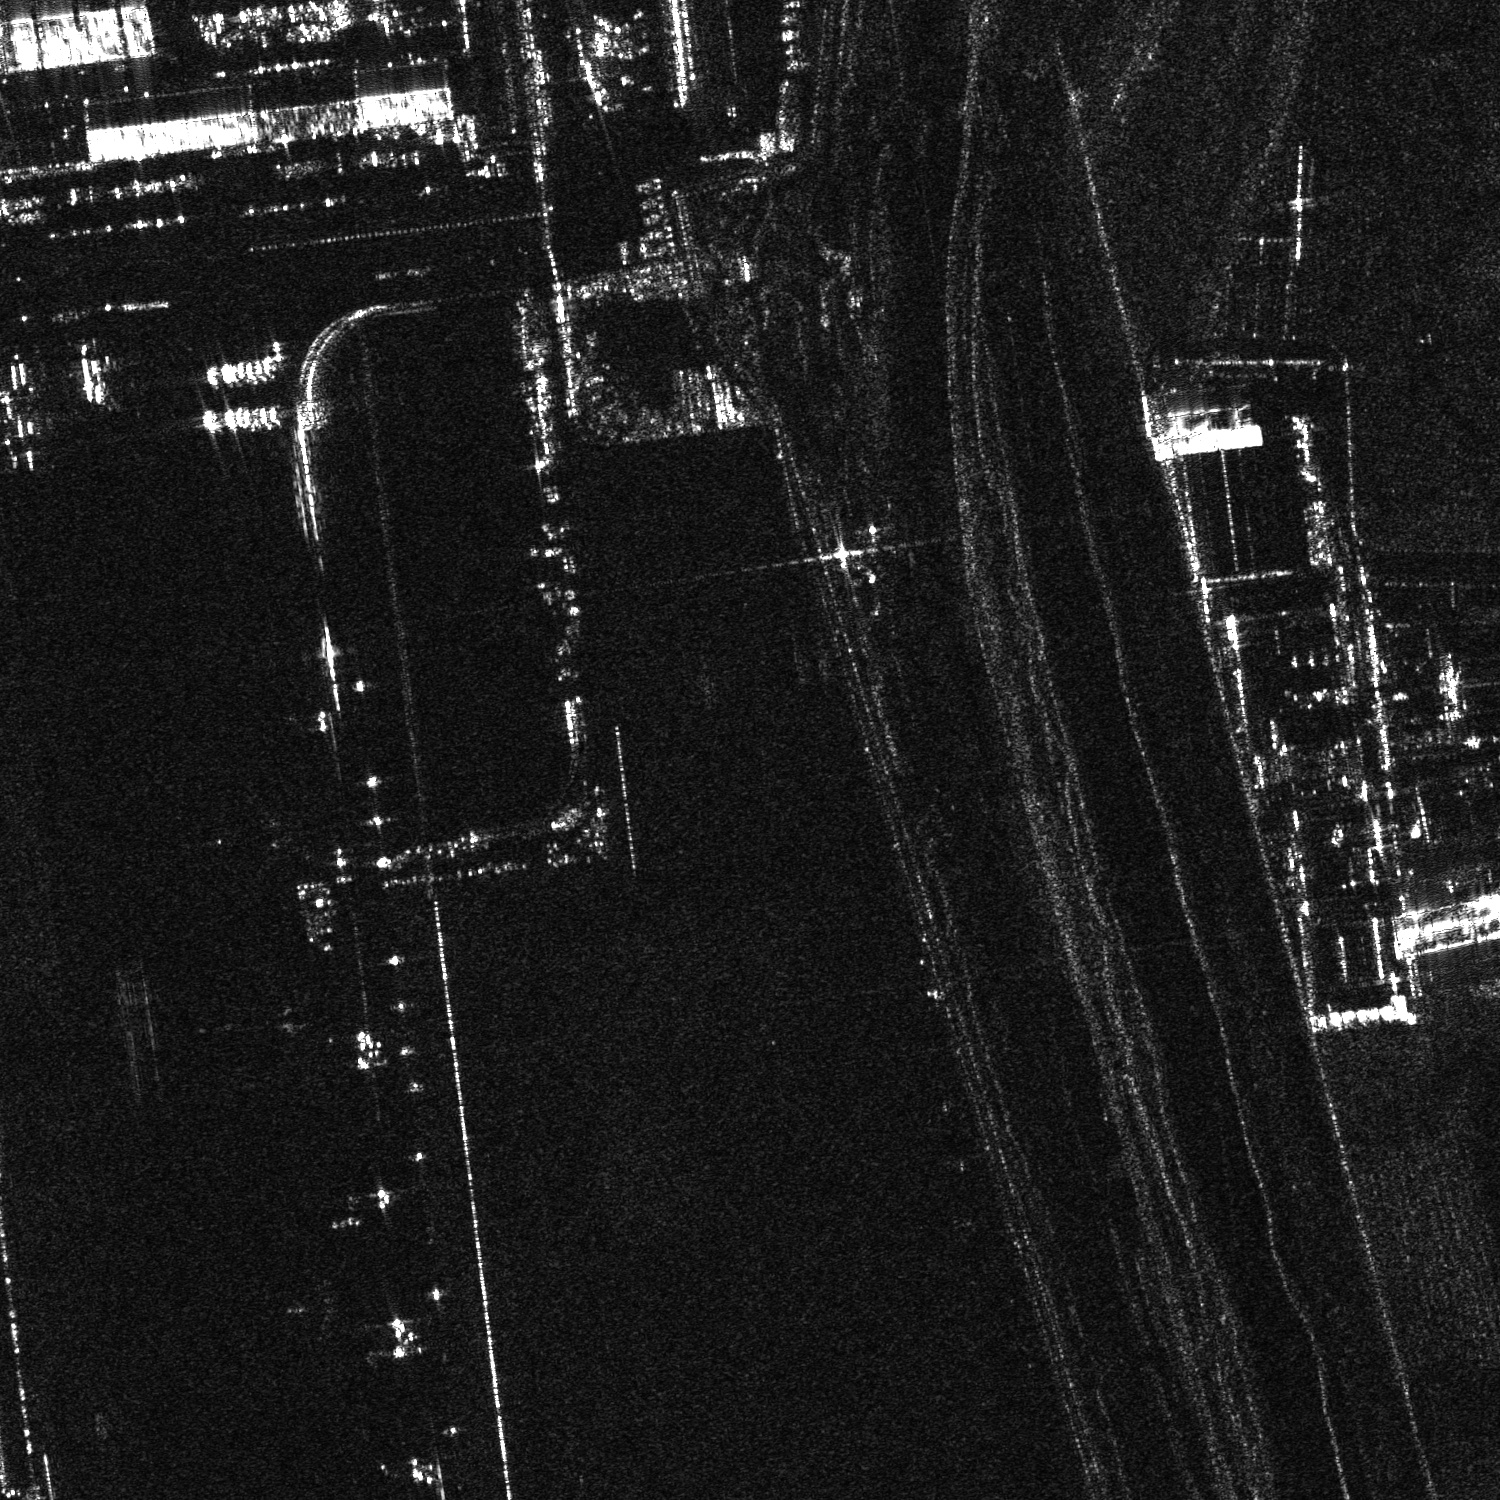Boeing787: (275, 1271, 357, 1343)
